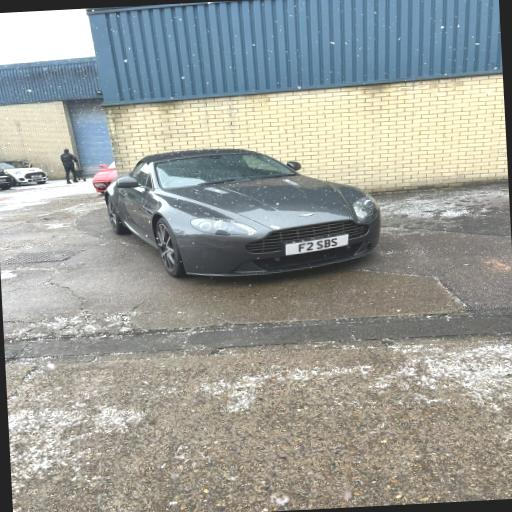numberplates: (286, 235, 348, 254), (31, 175, 42, 178), (0, 178, 7, 181)
